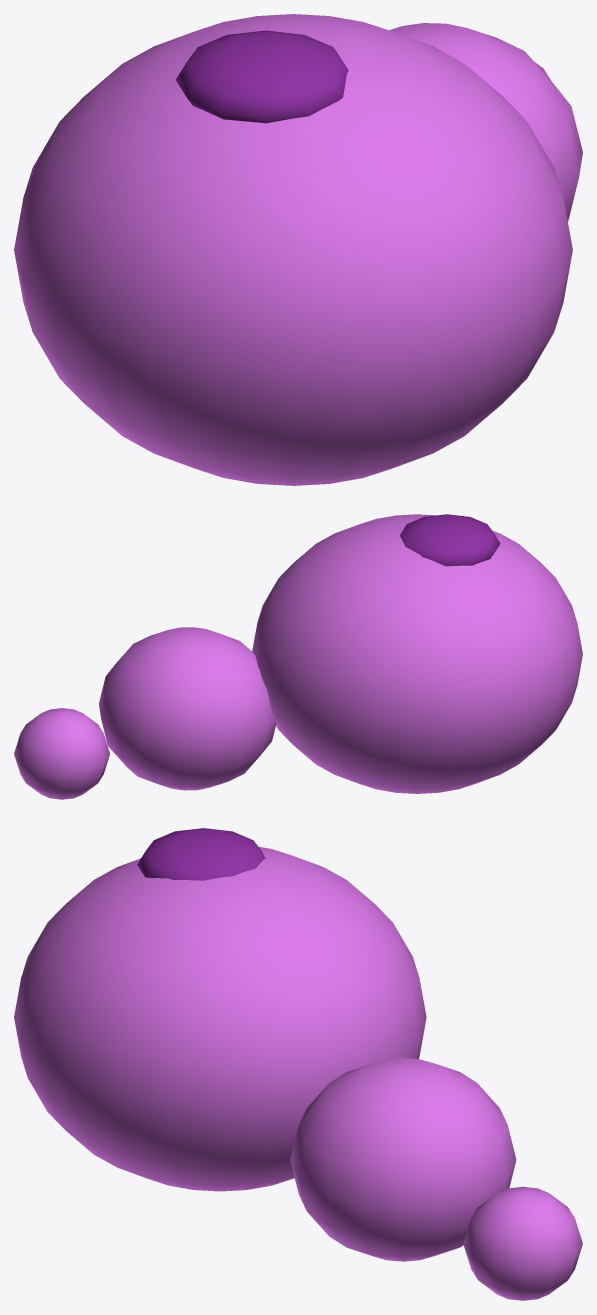
Rendered from fungus.glb.
3 views of the same model, one above another, from view 1: azimuth 30°, elevation 25°; view 2: azimuth 150°, elevation 25°; view 3: azimuth 270°, elevation 25° (orthographic). The views are drawn at different scales.
Parts seen in each view (by area): view 1: IW_L2_x_fungus; view 2: IW_L2_x_fungus; view 3: IW_L2_x_fungus.
Boxes of the visible parts, x1=… form: IW_L2_x_fungus: x1=14, y1=14, x2=582, y2=485; IW_L2_x_fungus: x1=14, y1=514, x2=582, y2=799; IW_L2_x_fungus: x1=14, y1=828, x2=582, y2=1300.
Size of the model in its own units: 1.81 by 1.04 by 1.71.
